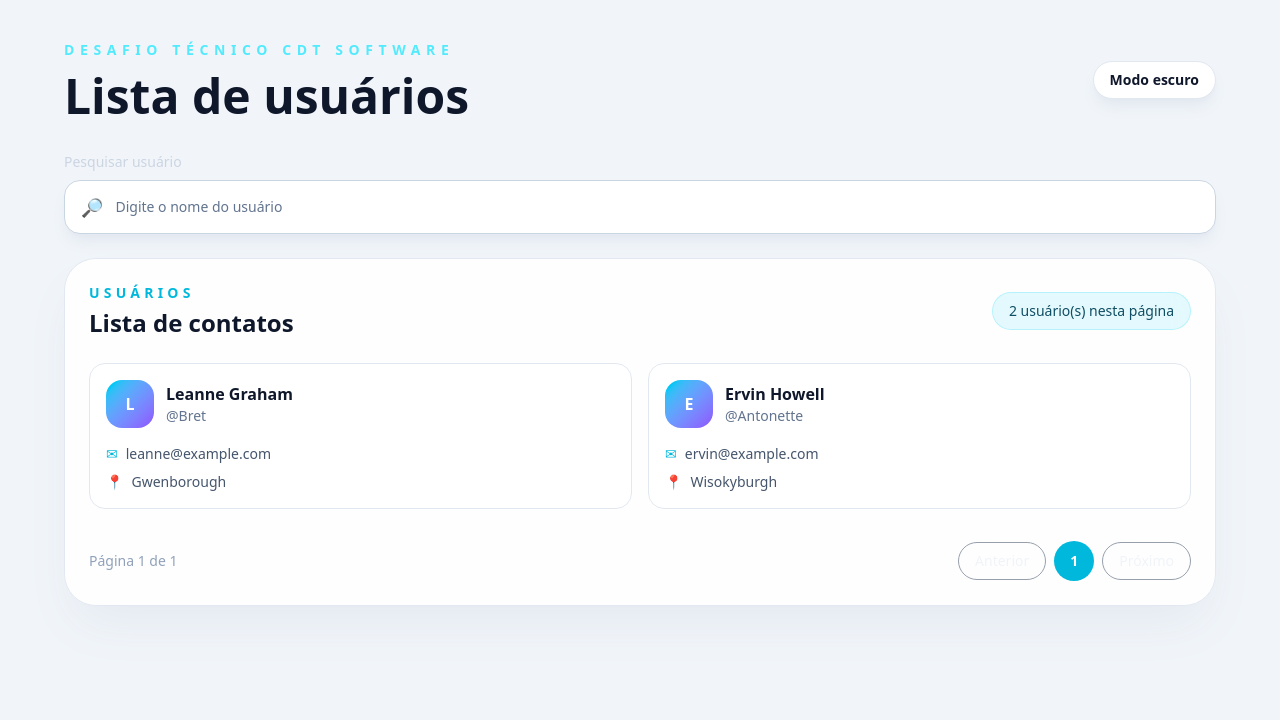
Test case: App › filtra usuários conforme o usuário digita no campo de pesquisa
Type "ervin" into the field labelled "Pesquisar usuário" at [657, 207], box x1=116 y1=197 x2=1199 y2=217
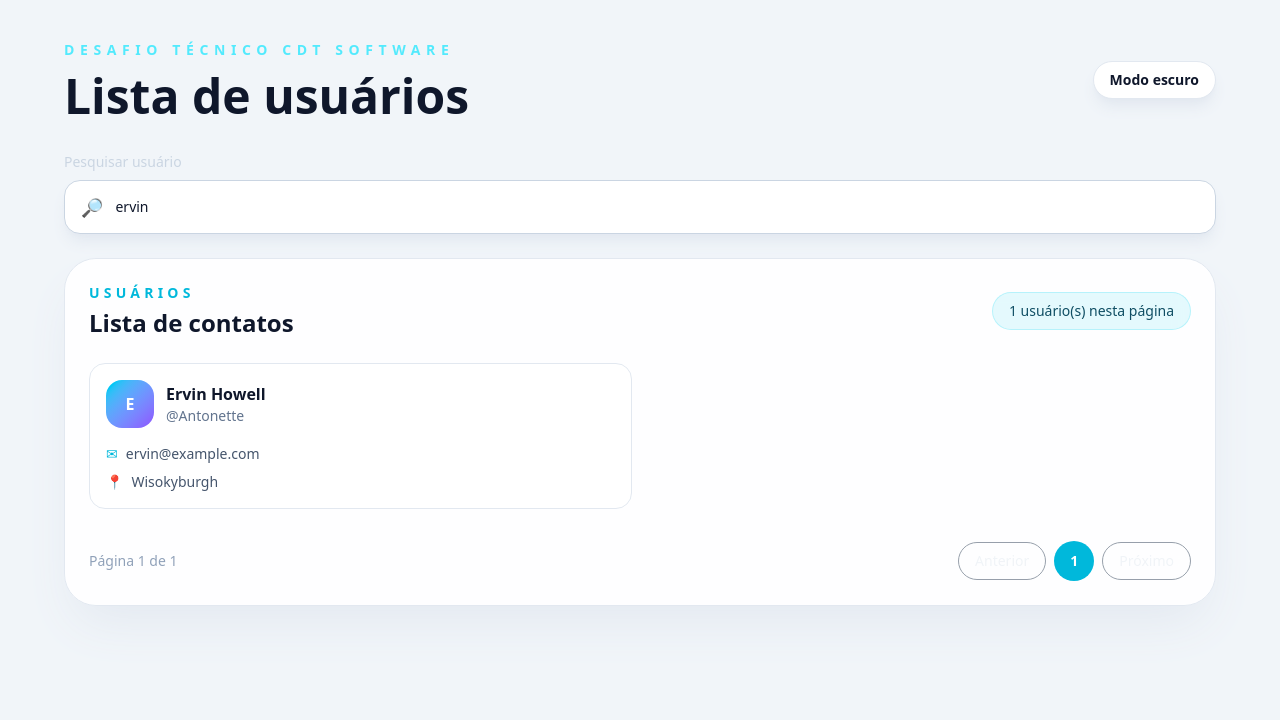
Expected: the heading "Ervin Howell" is shown, x1=166 y1=382 x2=266 y2=406
Result: the heading "Leanne Graham" is gone
